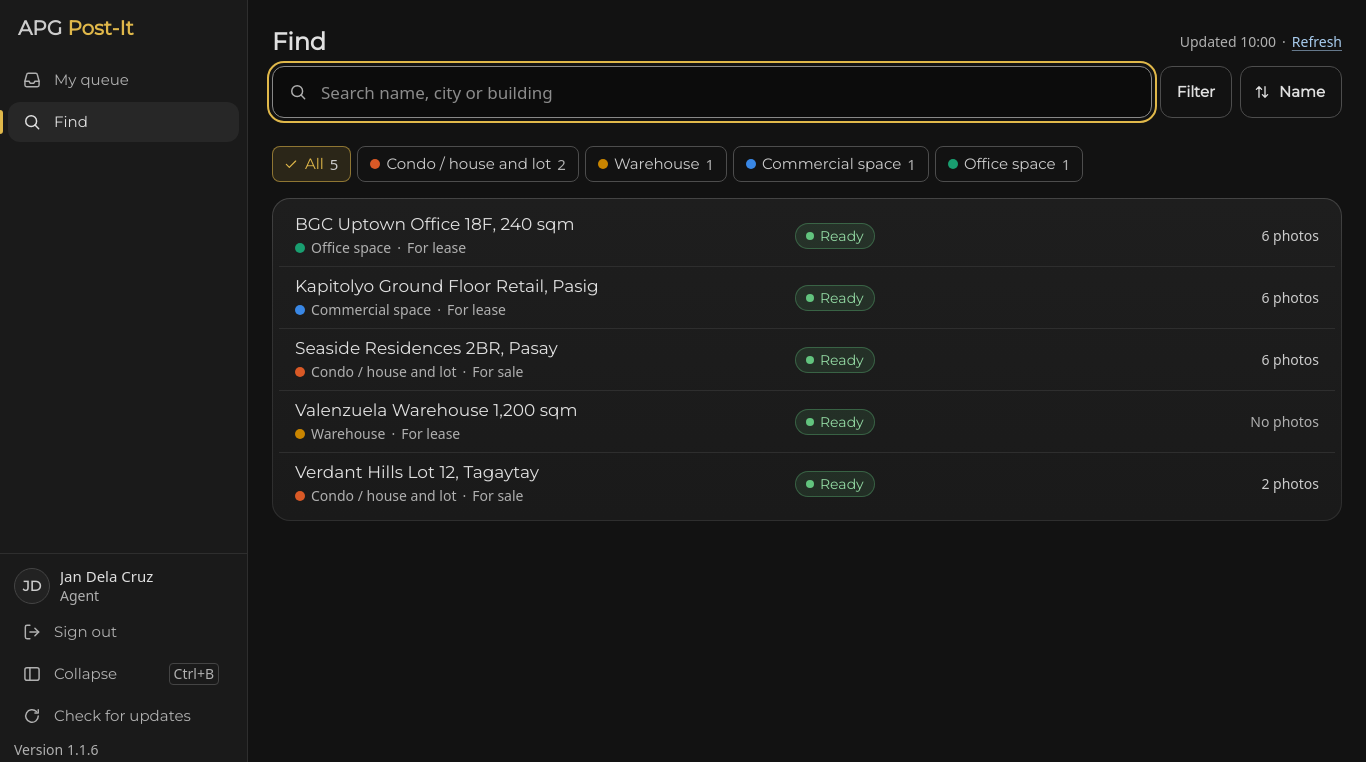
Test: Find, over the test library › opens the first result on Enter, and moves through them with the arrow keys
The image size is (1366, 762).
Expected: the text "Verdant Hills Lot 12, Tagaytay" is shown, [295,462,539,482]
Press Arrowdown
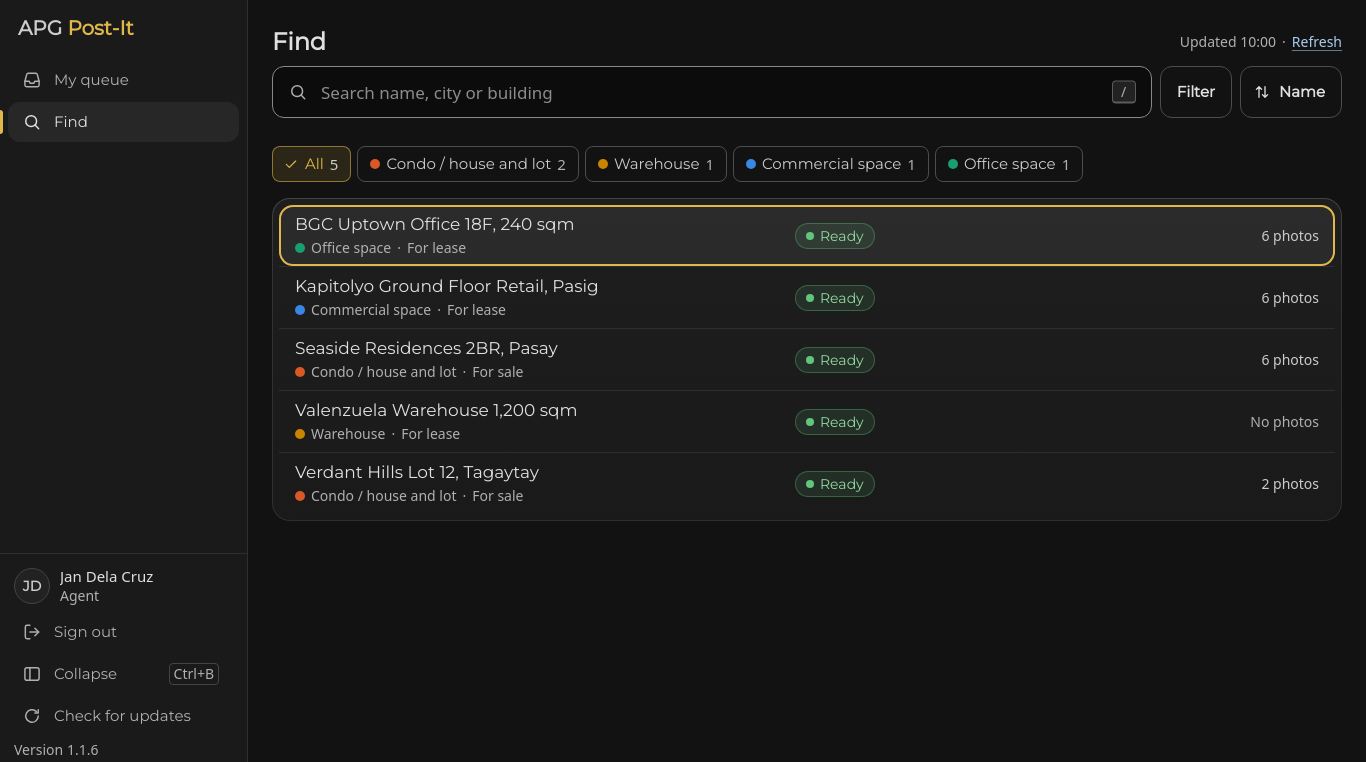
Press Arrowdown
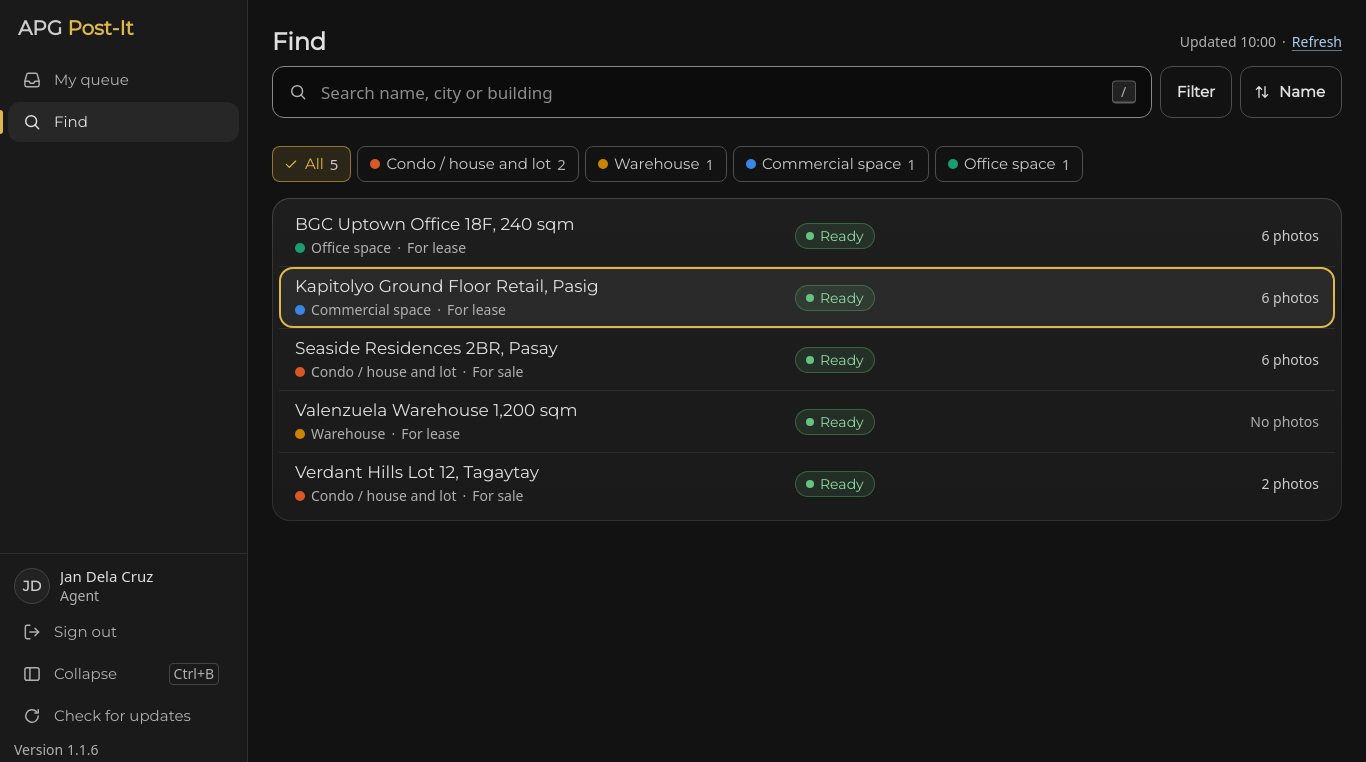
Press Escape
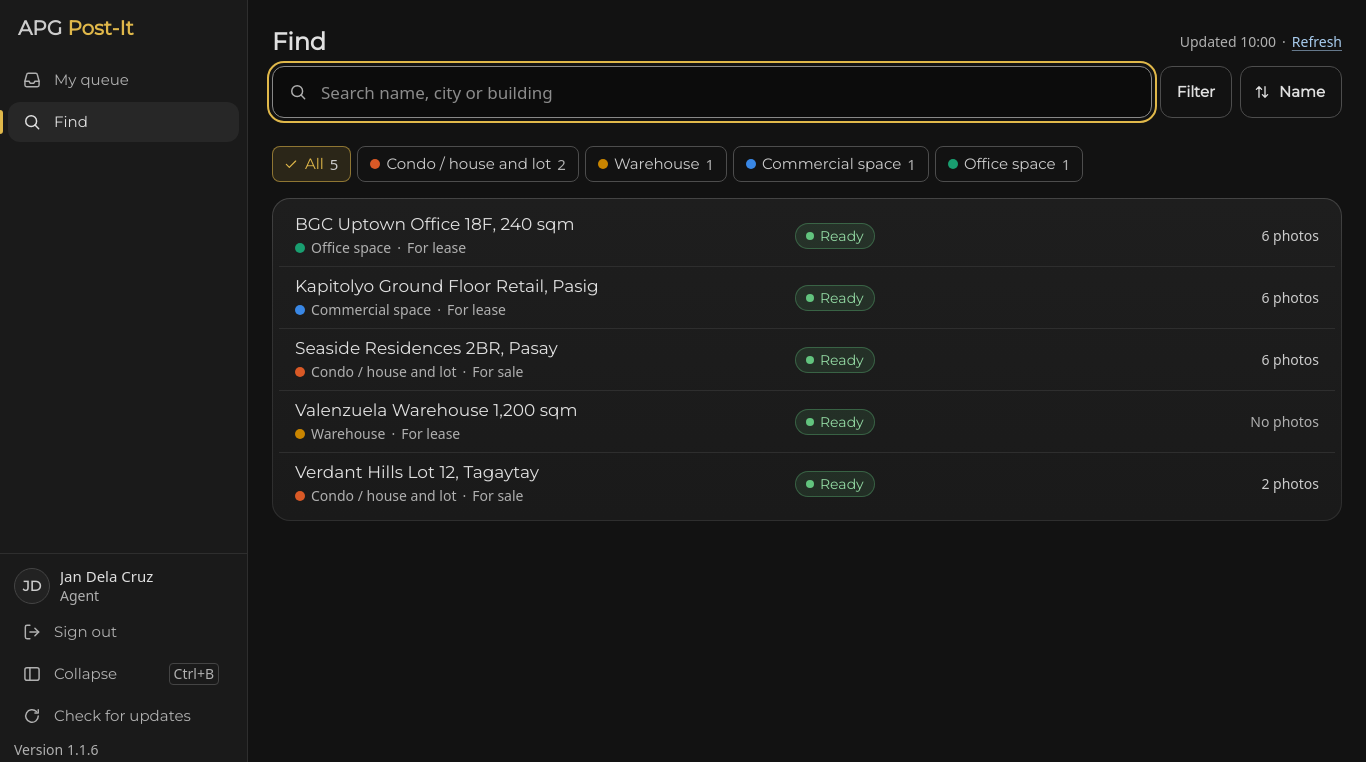
Type "verdant" into the search field named "Search listings" at coordinates (712, 92), box [272,66,1152,118]
Then press Enter
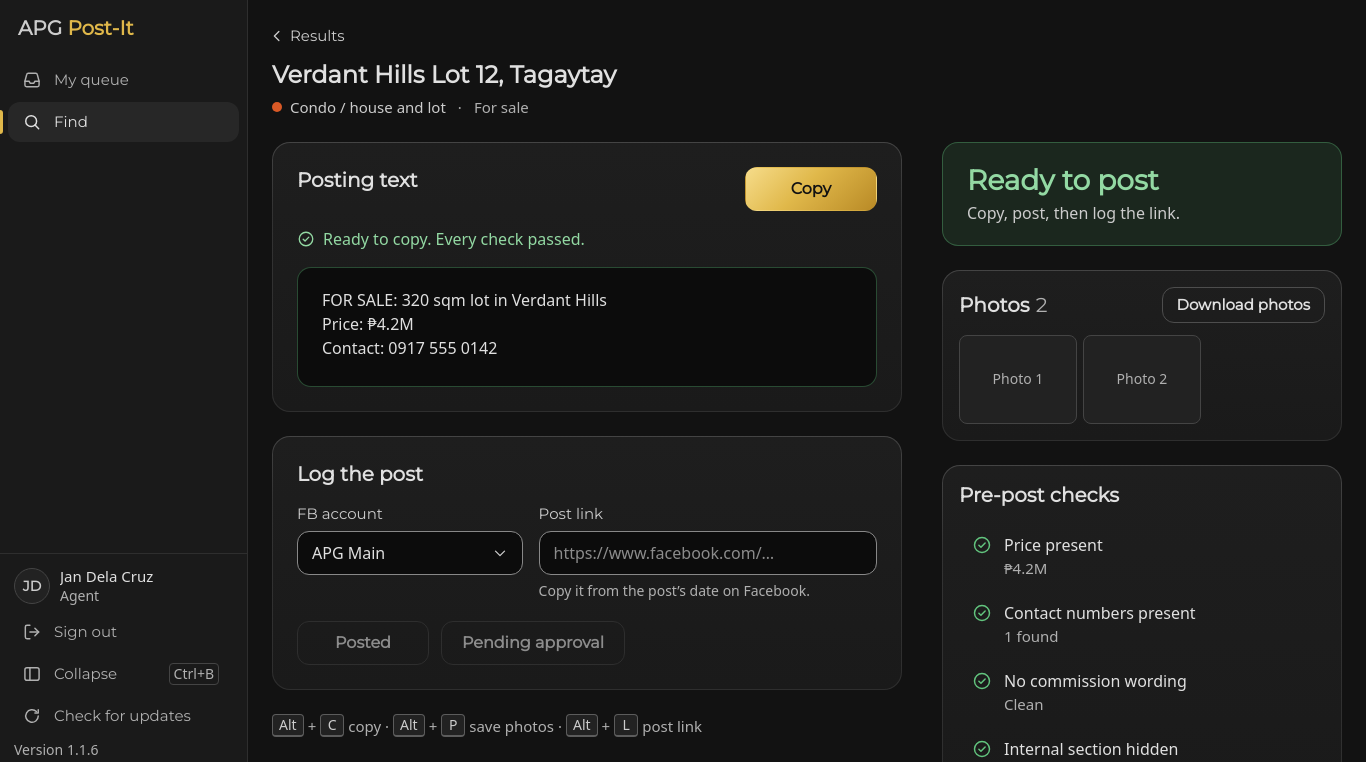
Expected: the heading "Verdant Hills Lot 12, Tagaytay" is shown, [272,60,616,89]
